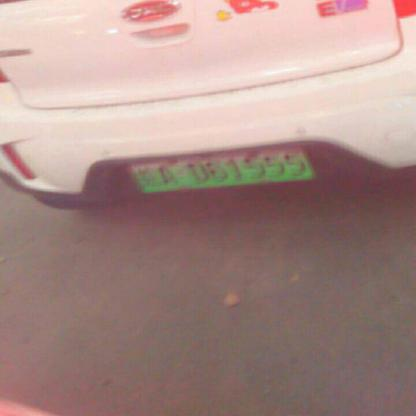lp: (126, 144, 316, 193)
